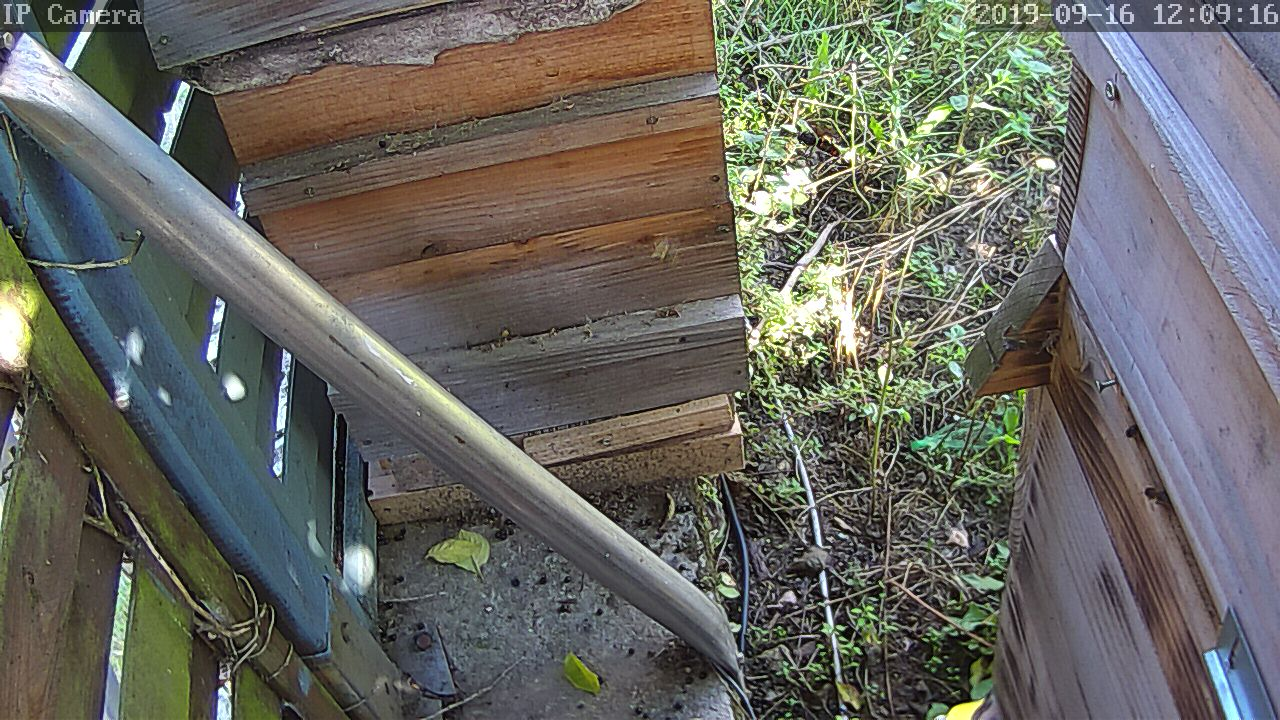bee: (1141, 481, 1178, 511)
hornet: (795, 128, 842, 162)
